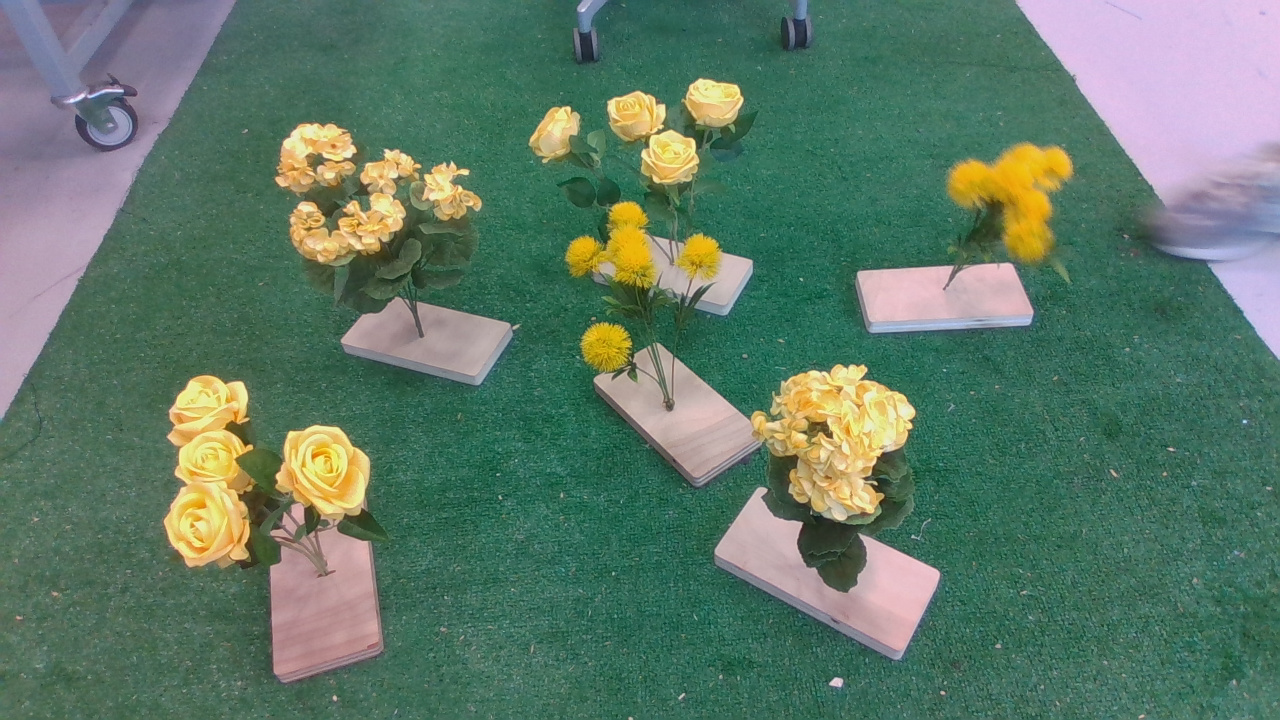dandelion: (556, 205, 733, 389), (947, 135, 1088, 300)
geranium: (275, 116, 494, 315), (751, 354, 929, 596)
rose: (154, 375, 398, 579), (513, 75, 767, 200)
